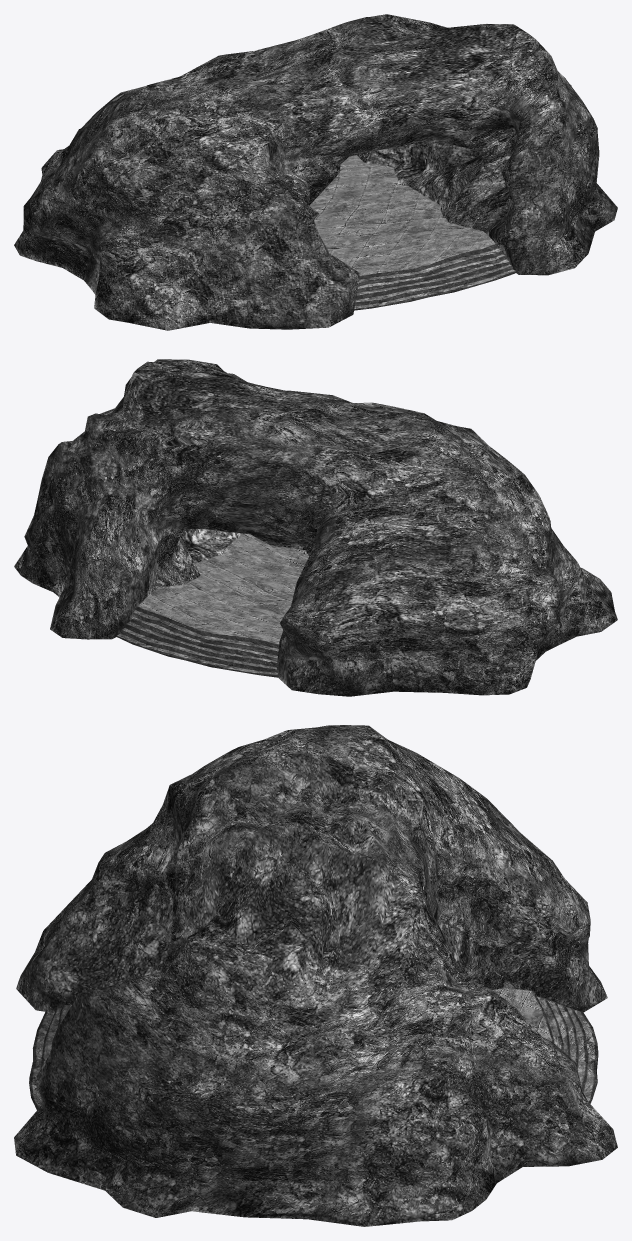
Rendered from cave steel 002.fbx.
The picture shows the model from 3 angles, top to bottom: view 1: azimuth 30°, elevation 25°; view 2: azimuth 150°, elevation 25°; view 3: azimuth 270°, elevation 25°; orthographic projection. The views are drawn at different scales.
Visible parts, largest first — view 1: cave stone; view 2: cave stone; view 3: cave stone.
Boxes of the visible parts, bbox=[...] form: cave stone: bbox=[14, 14, 617, 330]; cave stone: bbox=[14, 359, 617, 696]; cave stone: bbox=[14, 725, 617, 1226].
Bounding box in the file's own units: 760 × 249 × 559.
